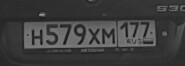license-plateSW: (23, 21, 158, 48)
